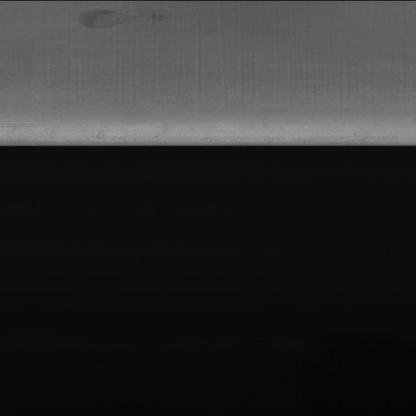oil_spot: (74, 2, 176, 46)
